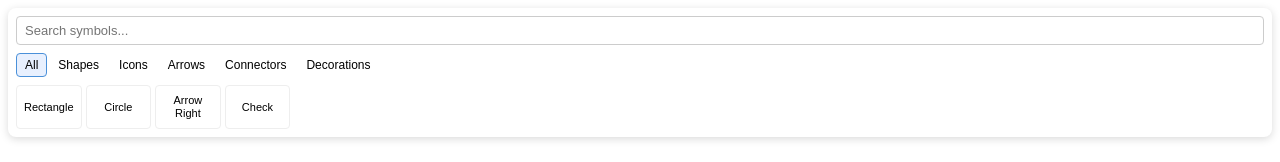
Test: SymbolPicker › search filtering › shows empty state when no assets match search
This screenshot has width=1280, height=162.
Type "nonexistent-xyz" into the field named "Search symbols" at (640, 30), box x1=16 y1=16 x2=1264 y2=45
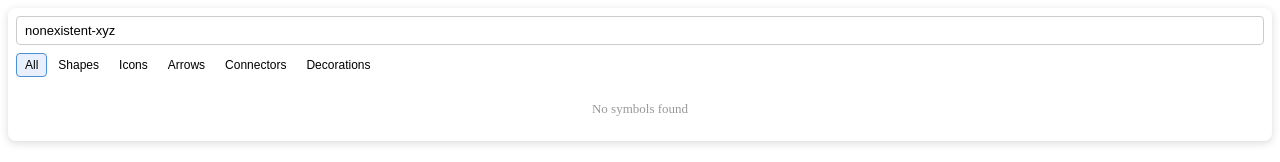
Check: the text with test id "empty-state" reads "No symbols found", box x1=592 y1=101 x2=688 y2=116
